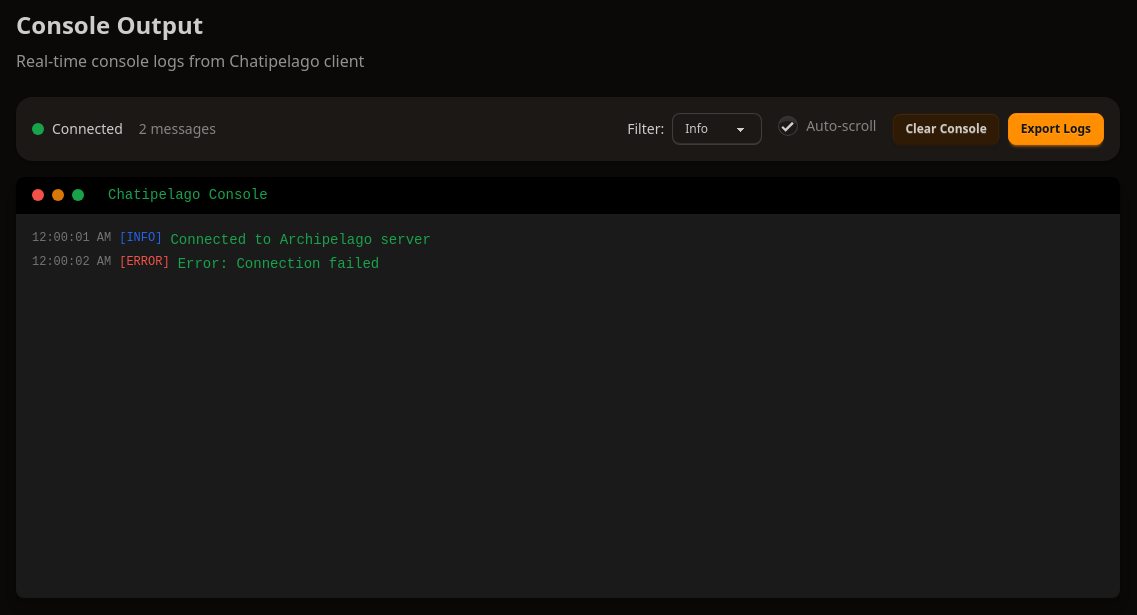
Test: ConsoleOutput › should filter messages by level
Select "Error" in the dropdown named "Filter messages by level" at (717, 129), box top-left (672, 113), bottom-right (762, 145)
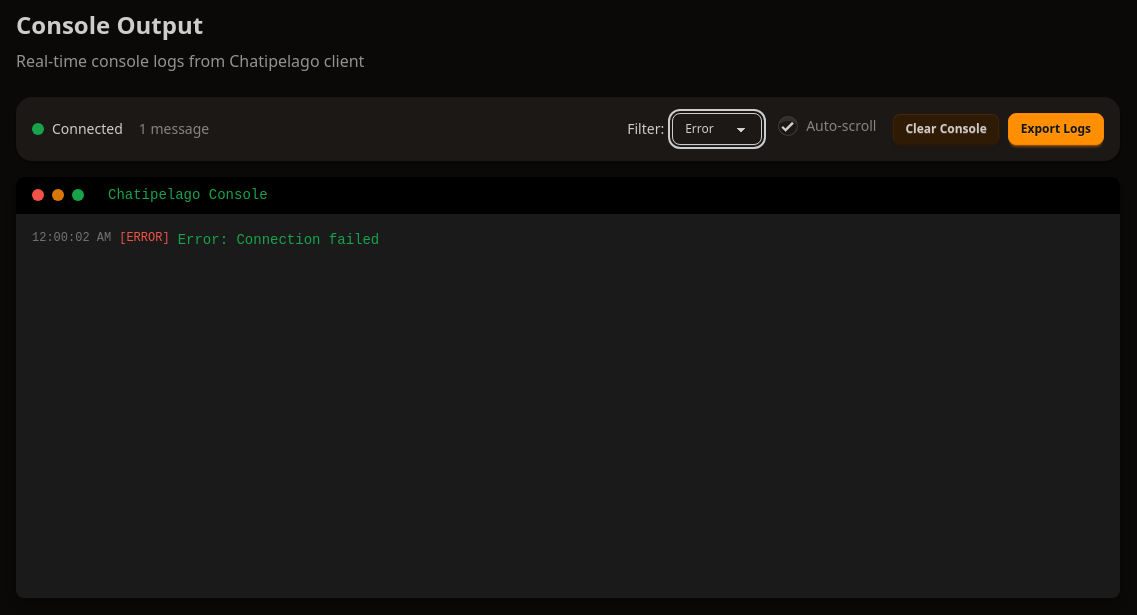
Expected: the text "Error: Connection failed" is shown, top-left (178, 232), bottom-right (379, 248)
Expected: the text "Connected to Archipelago server" is gone
